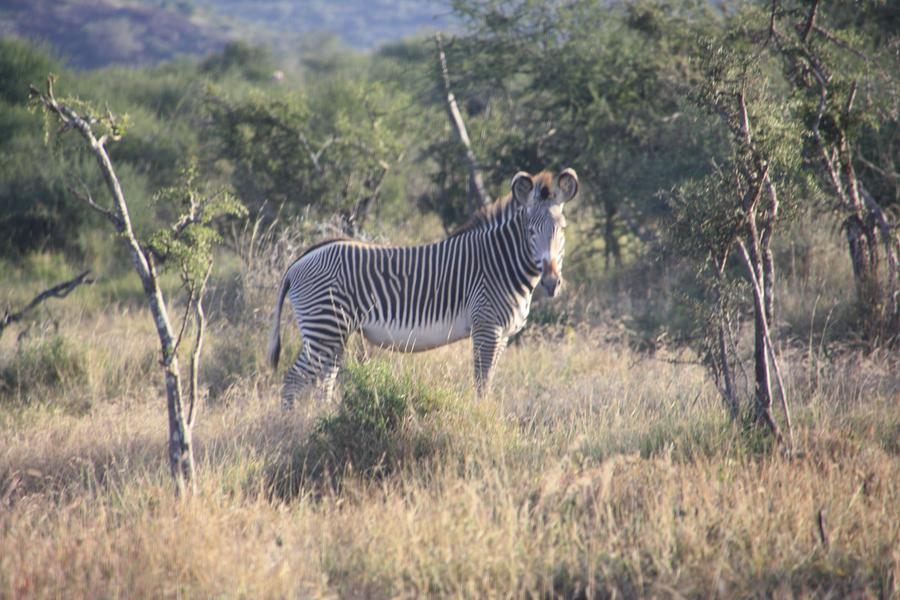zebra_grevys: (281, 234, 507, 329)
